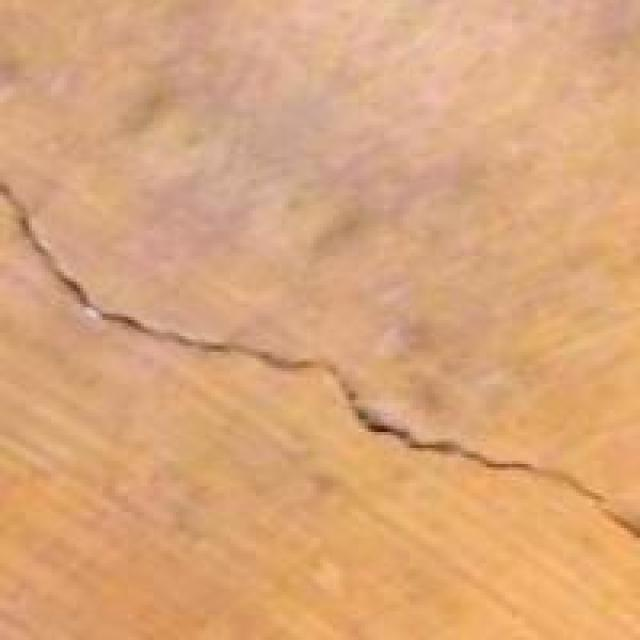crack: (6, 153, 637, 582)
